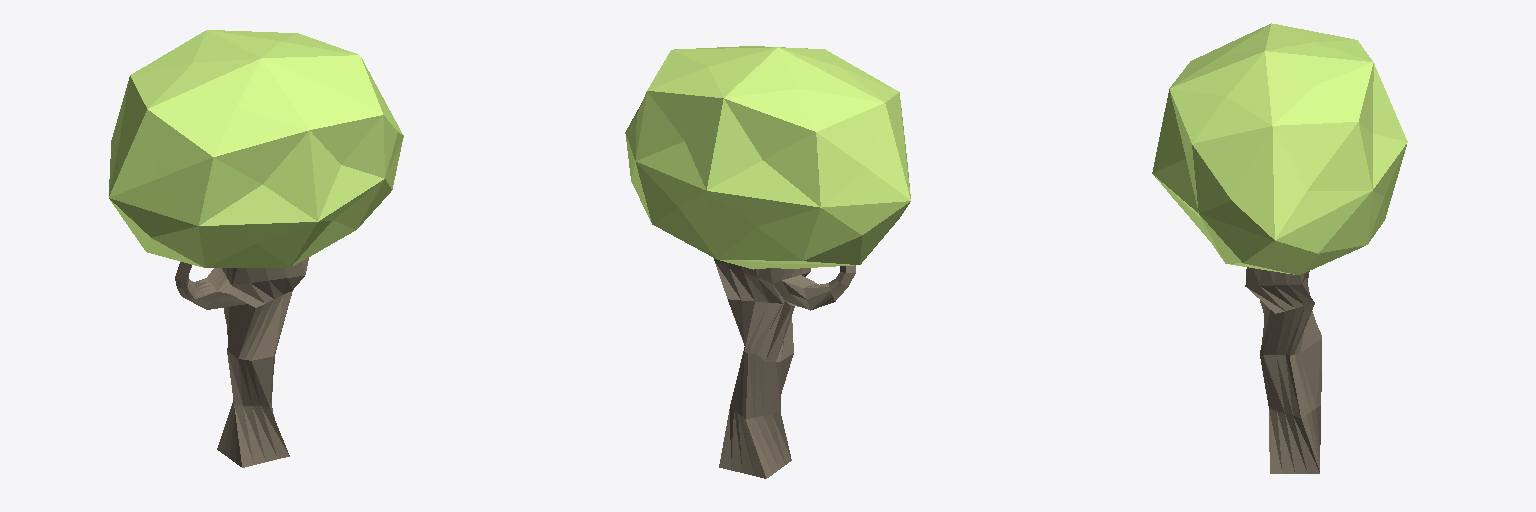
3 views of the same model, side by side, from view 1: azimuth 30°, elevation 25°; view 2: azimuth 150°, elevation 25°; view 3: azimuth 270°, elevation 25° (orthographic).
Visible parts, largest first — view 1: Cube.001, Cube; view 2: Cube.001, Cube; view 3: Cube.001, Cube.
Boxes of the visible parts, x1=… form: Cube.001: x1=109, y1=30, x2=403, y2=267; Cube: x1=175, y1=258, x2=308, y2=467; Cube.001: x1=625, y1=46, x2=910, y2=269; Cube: x1=714, y1=258, x2=855, y2=478; Cube.001: x1=1152, y1=23, x2=1407, y2=274; Cube: x1=1245, y1=267, x2=1321, y2=473.
Size of the model in its own units: 8.74 by 11.71 by 6.66.
Materials: 2 (2 with a texture image).